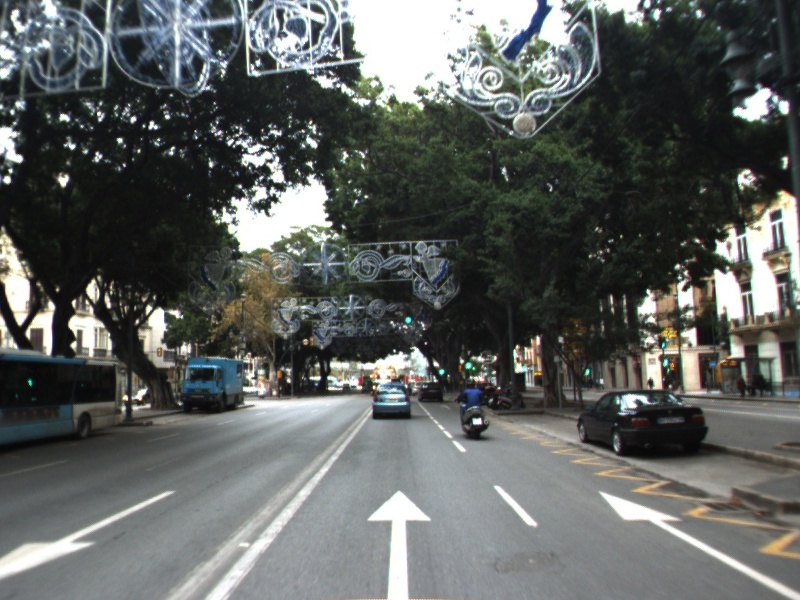STRAIGHT: (595, 487, 800, 600), (363, 485, 435, 600)
